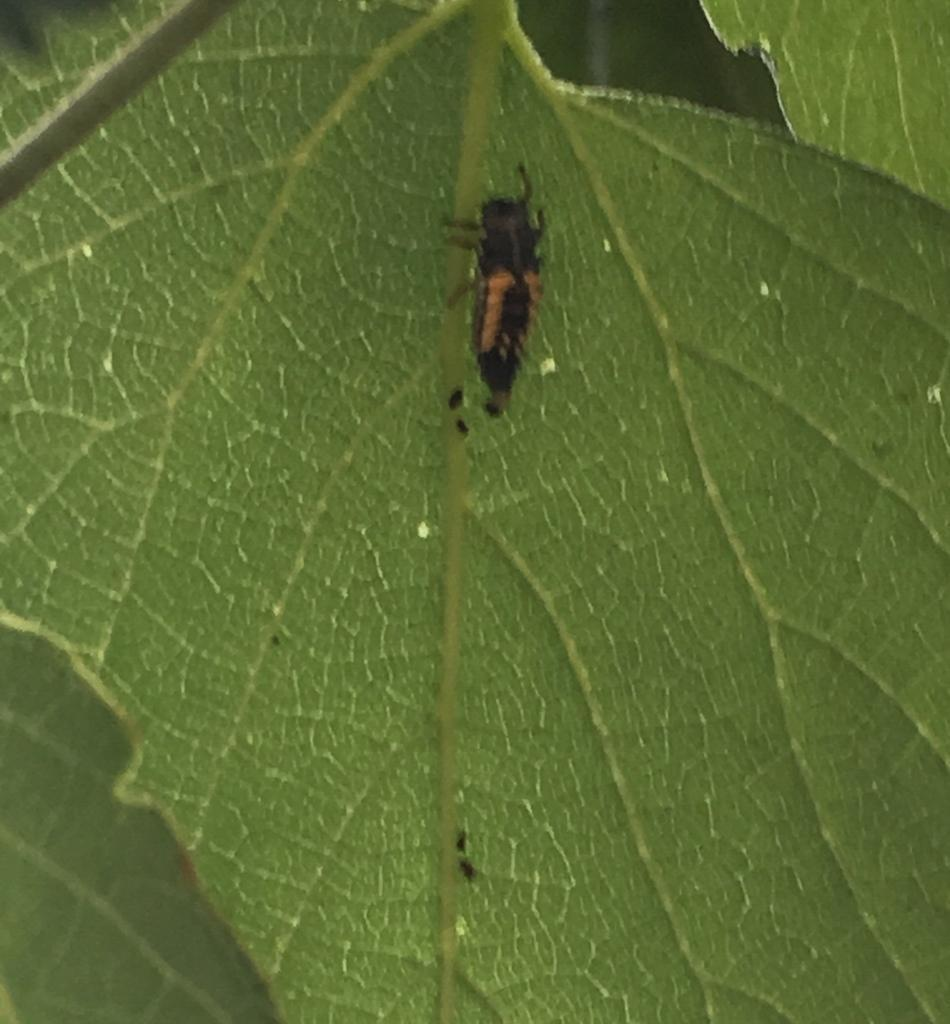ladybug: (434, 157, 555, 422)
